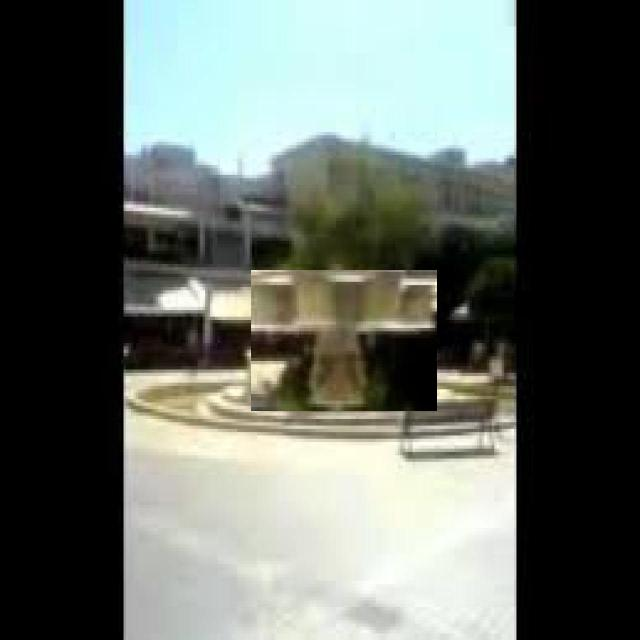Liontaria: (252, 271, 438, 412)
